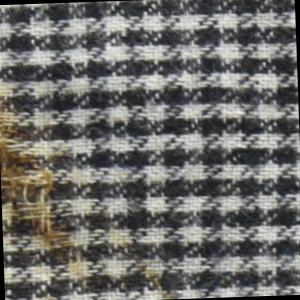Damage: (1, 100, 86, 274)
Oil Stain: (1, 70, 177, 300)
